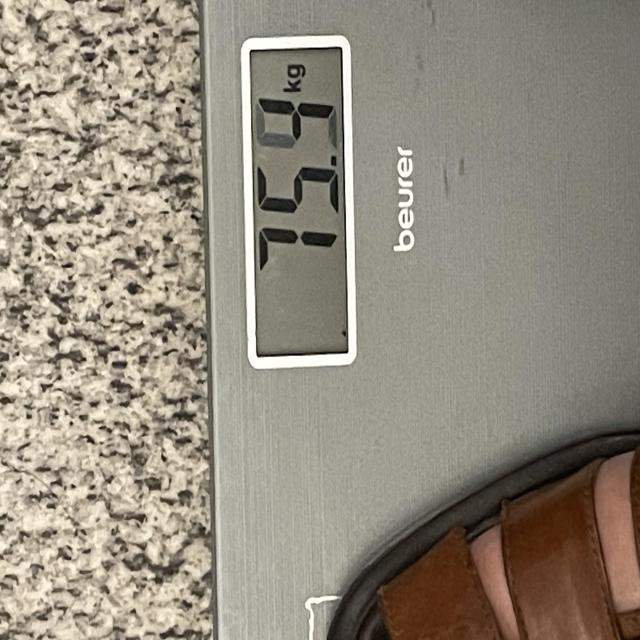ws: (198, 0, 640, 640)
